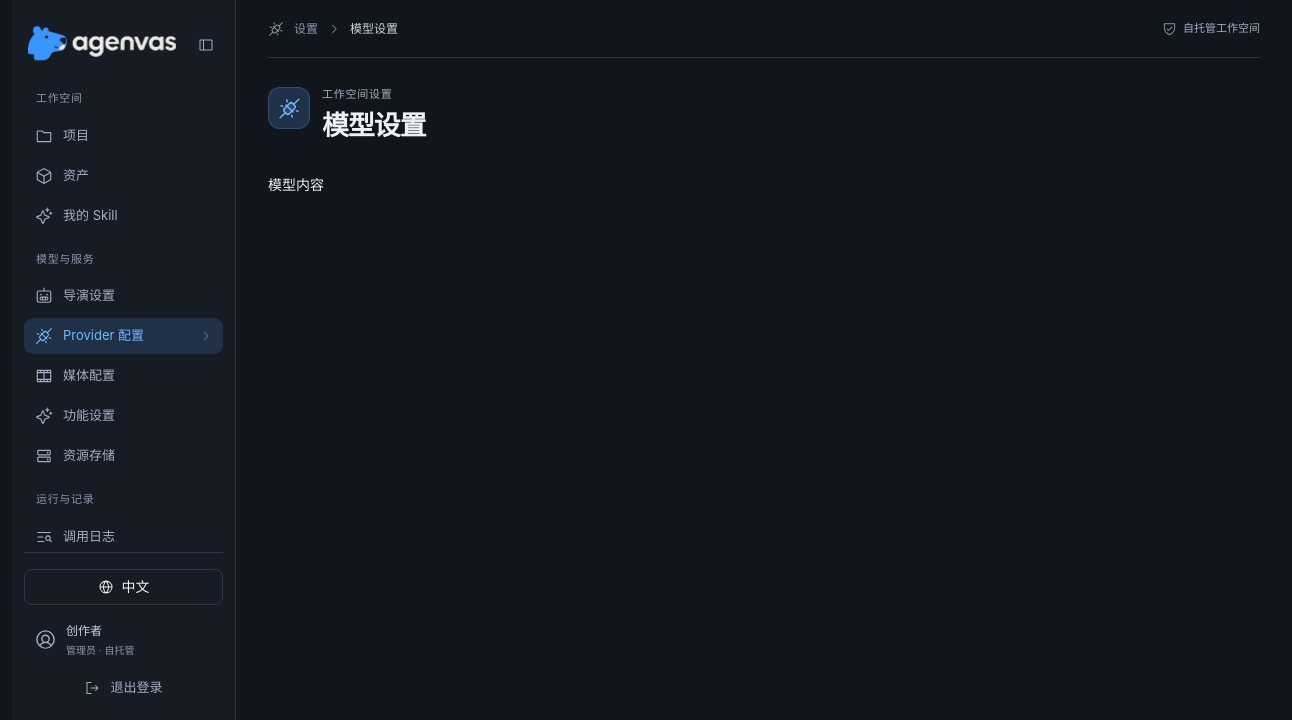
Scenario: PageShell › preserves collapsed navigation across pages and identifies the active route
Click the button named "收起导航" at x=206, y=43, box [192,29,219,57]
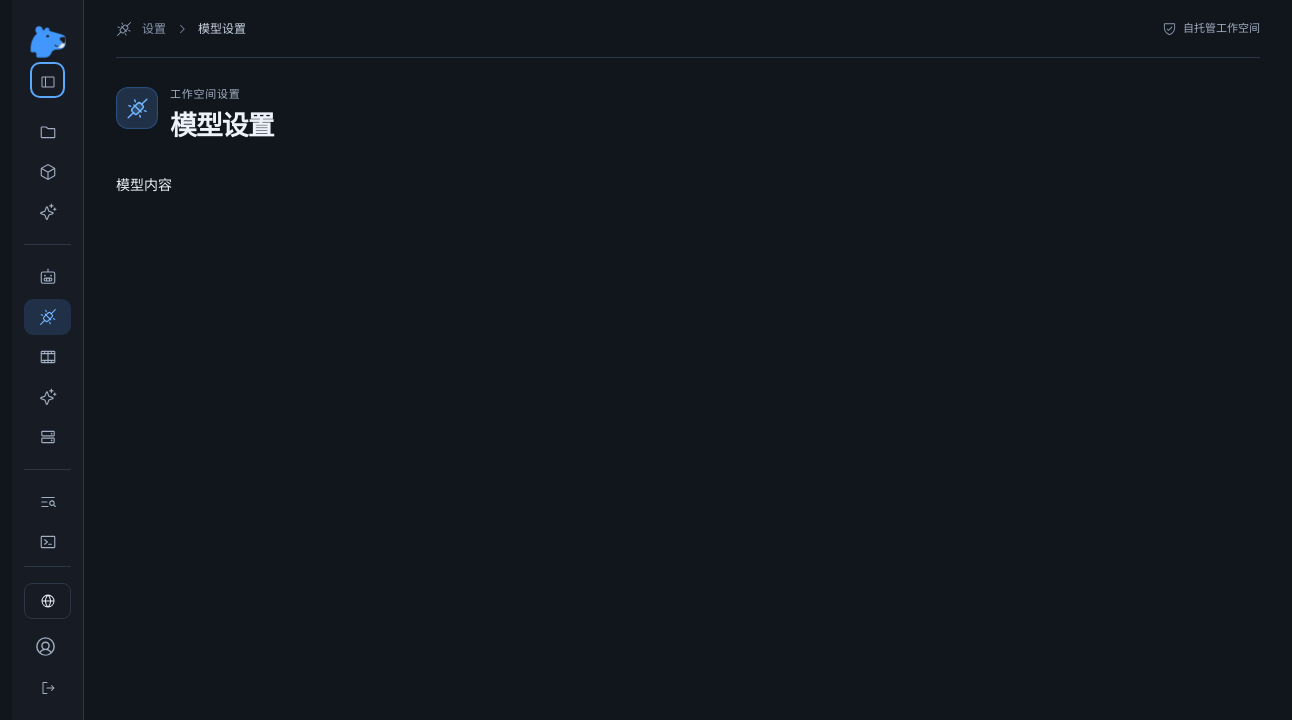
Click the link named "媒体配置" at x=48, y=357, box [38,348,56,366]
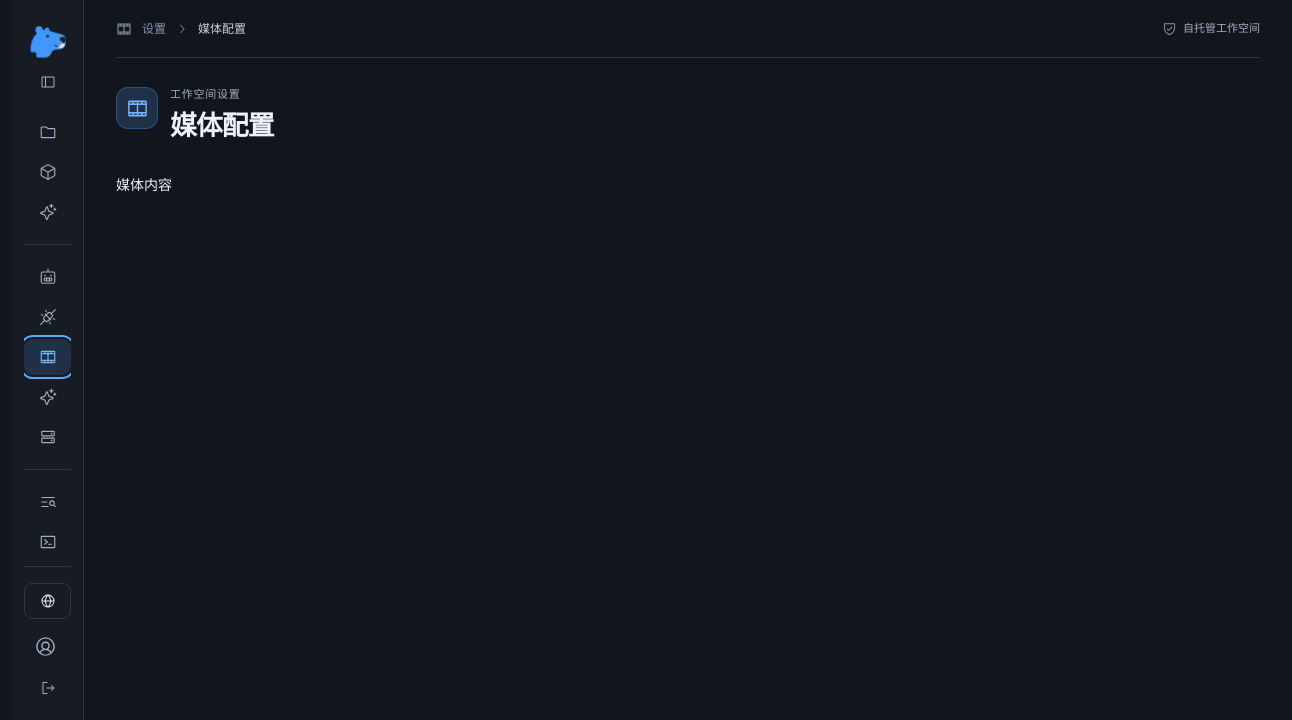
Check: the button named "展开导航" is collapsed, box [34,66,61,94]
Check: the text "媒体内容" is shown, box [116,176,172,193]
Click the link named "调用日志" at x=48, y=502, box [38,493,56,511]
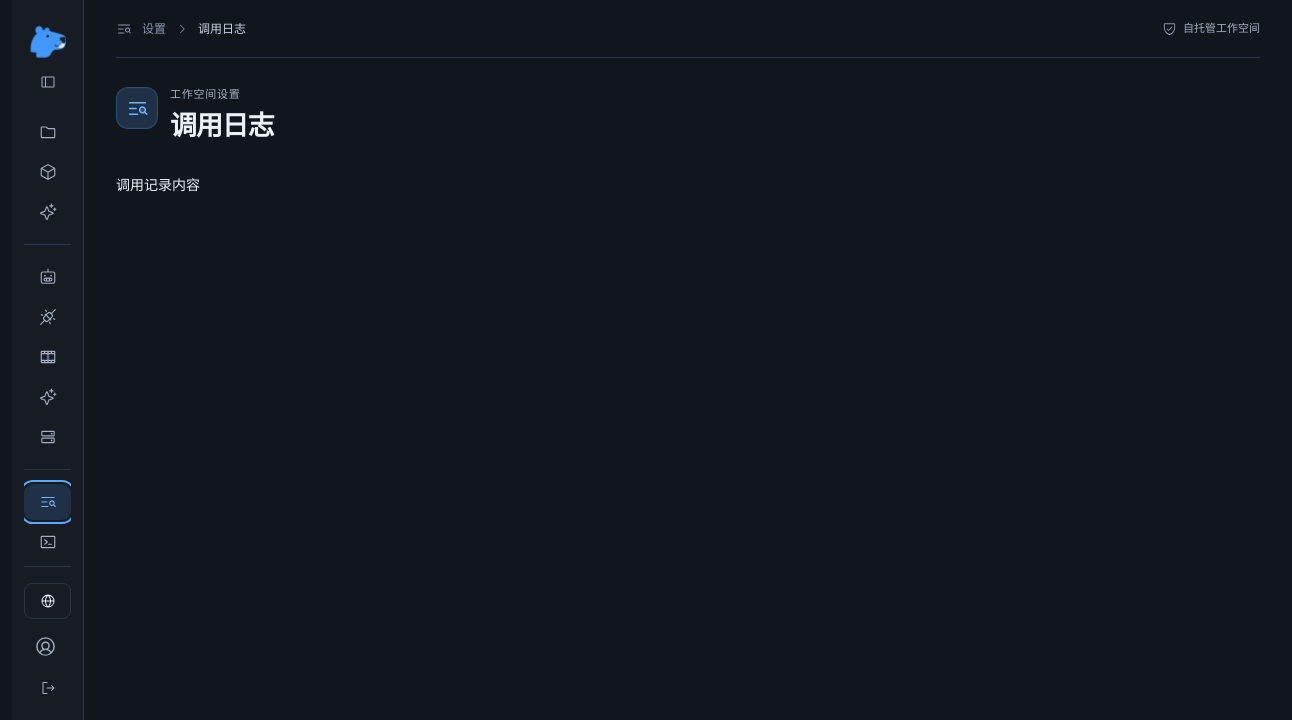
Check: the text "调用记录内容" is shown, box [116,176,200,193]
